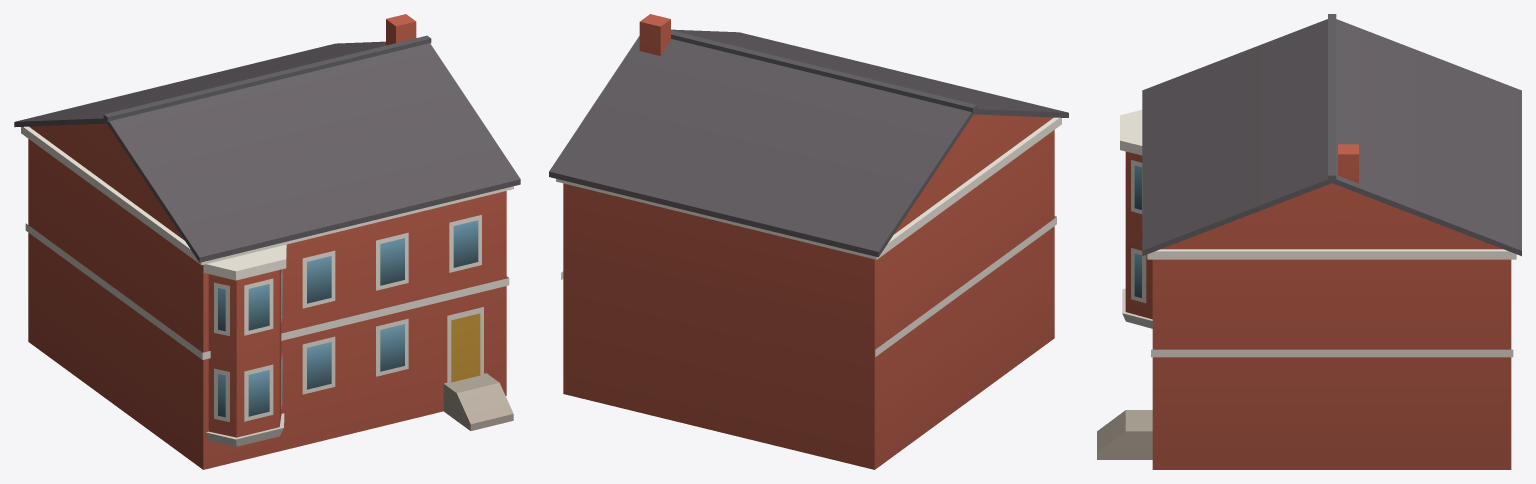
The model's file is beacon_w3_far.glb.
3 views of the same model, side by side, from view 1: azimuth 30°, elevation 25°; view 2: azimuth 150°, elevation 25°; view 3: azimuth 270°, elevation 25° (orthographic). The views are drawn at different scales.
Visible parts, largest first — view 1: beacon_w3_far; view 2: beacon_w3_far; view 3: beacon_w3_far.
Part boxes in pixels (bbox=[...]): beacon_w3_far: bbox=[14, 14, 520, 469]; beacon_w3_far: bbox=[549, 14, 1068, 469]; beacon_w3_far: bbox=[1097, 14, 1521, 469].
Bounding box in the file's own units: 12.8 × 11.65 × 14.21.
1 material, 1 textured.
